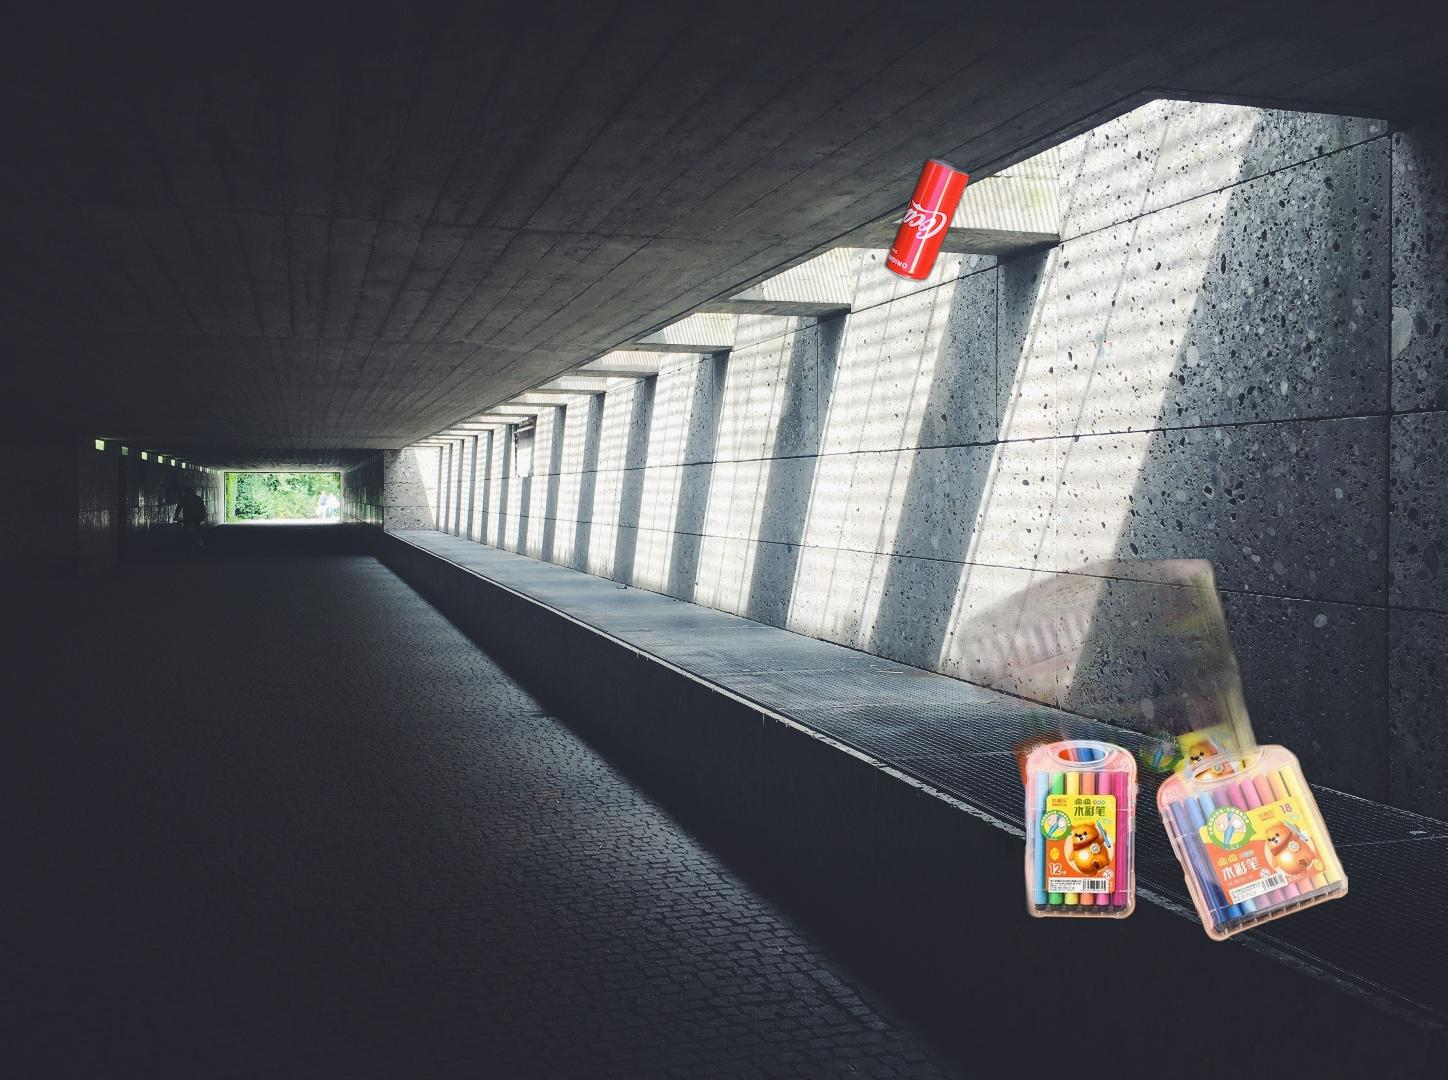metal-cans: (880, 151, 1279, 533)
penholder: (948, 559, 1348, 944)
